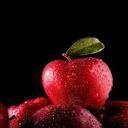apple: (24, 105, 103, 128)
